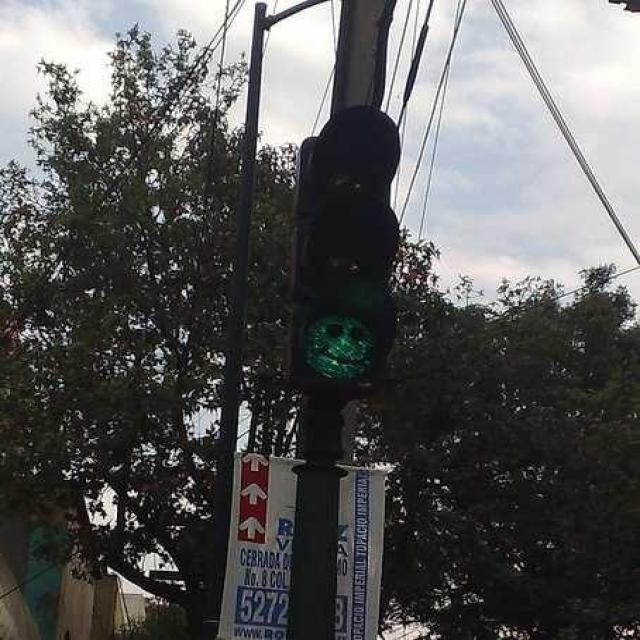Traffic Light -Red-: (284, 100, 408, 405)
